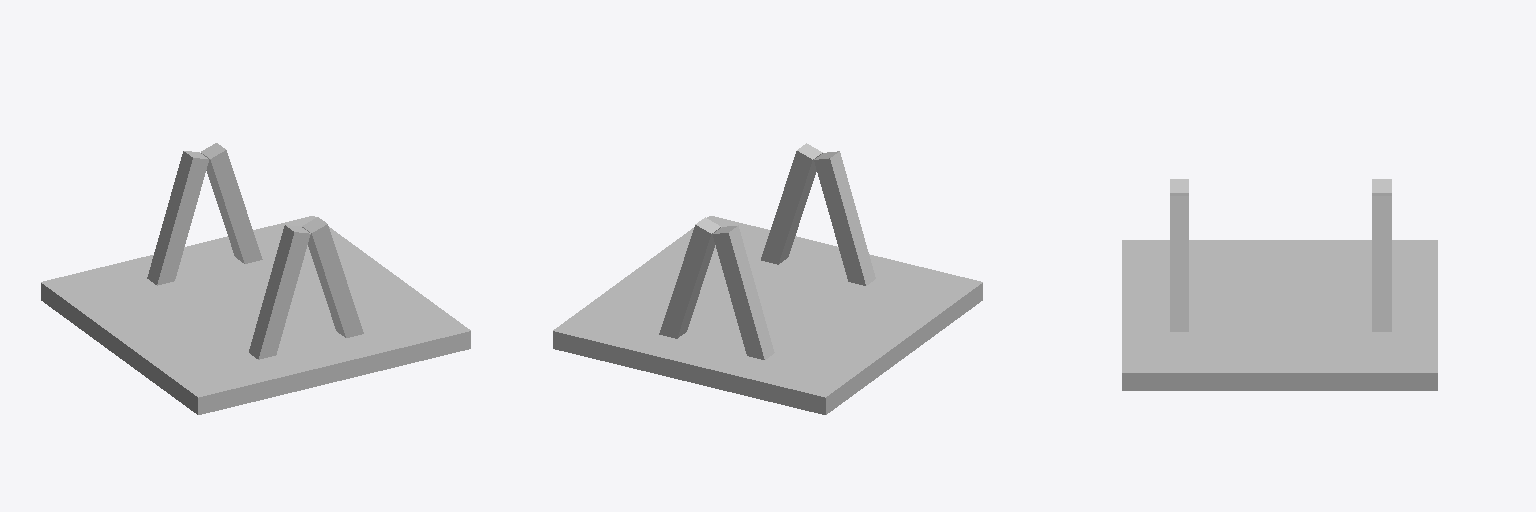
Rendered from small_crankshaft_base.obj.
The picture shows the model from 3 angles: view 1: azimuth 30°, elevation 25°; view 2: azimuth 150°, elevation 25°; view 3: azimuth 270°, elevation 25°; orthographic projection.
Visible parts, largest first — view 1: base; view 2: base; view 3: base.
Part boxes in pixels (x1,y1,x2,y2): base: (41,143,470,414); base: (553,143,982,414); base: (1122,179,1437,390).
Size of the model in its own units: 1 by 0.4784 by 1.